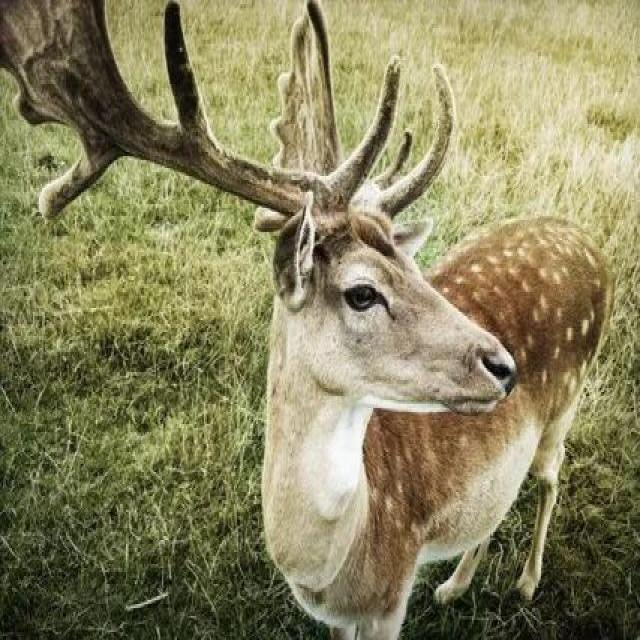deer: (134, 84, 596, 560)
